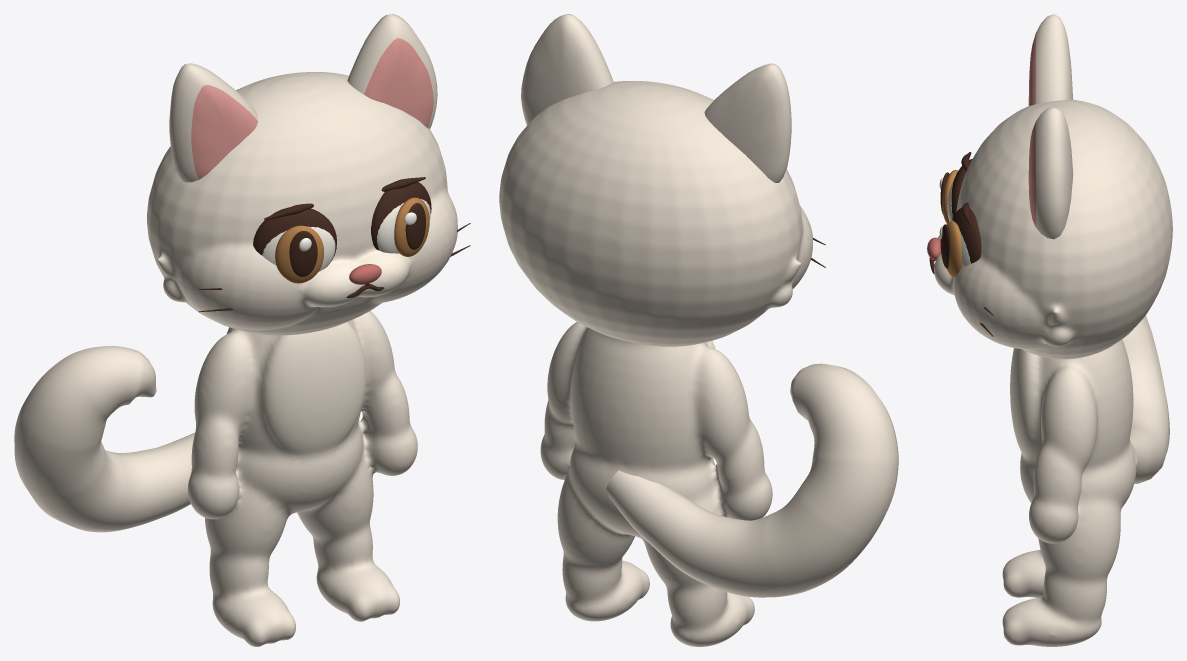
Rendered from dang-dang-base-3d.fbx.
3 renders of one model, left to right at view 1: azimuth 30°, elevation 25°; view 2: azimuth 150°, elevation 25°; view 3: azimuth 270°, elevation 25°, orthographic. The views are drawn at different scales.
Parts seen in each view (by area): view 1: Base body, Head, Curled tail, Ear.L, Ear.R, Eyelid.L, Iris.L, Eyelid.R, Iris.R, Pupil.L, Sclera.L, Sclera.R (+1 smaller); view 2: Head, Base body, Curled tail, Ear.L, Ear.R; view 3: Head, Base body, Curled tail, Ear.R, Ear.L, Eyelid.R, Iris.R, Eyelid.L, Pupil.R.
Part boxes in pixels (<box>): Base body: <box>187,311,417,646</box>; Head: <box>147,72,457,335</box>; Curled tail: <box>14,346,194,532</box>; Ear.L: <box>169,63,257,182</box>; Ear.R: <box>347,14,437,128</box>; Eyelid.L: <box>253,207,336,259</box>; Iris.L: <box>275,225,324,283</box>; Eyelid.R: <box>371,182,431,250</box>; Iris.R: <box>394,197,429,256</box>; Pupil.L: <box>289,231,317,276</box>; Sclera.L: <box>262,226,335,271</box>; Sclera.R: <box>377,199,430,253</box>; Head: <box>499,81,812,346</box>; Base body: <box>540,322,772,646</box>; Curled tail: <box>606,363,898,597</box>; Ear.L: <box>704,63,791,182</box>; Ear.R: <box>521,14,613,125</box>; Head: <box>934,99,1172,359</box>; Base body: <box>1002,339,1136,646</box>; Curled tail: <box>1122,315,1169,483</box>; Ear.R: <box>1028,107,1073,239</box>; Ear.L: <box>1028,14,1073,105</box>; Eyelid.R: <box>952,208,981,263</box>; Iris.R: <box>947,221,961,277</box>; Eyelid.L: <box>951,159,972,217</box>; Pupil.R: <box>940,224,950,268</box>.
Bounding box in the file's own units: 216 × 301 × 122.
